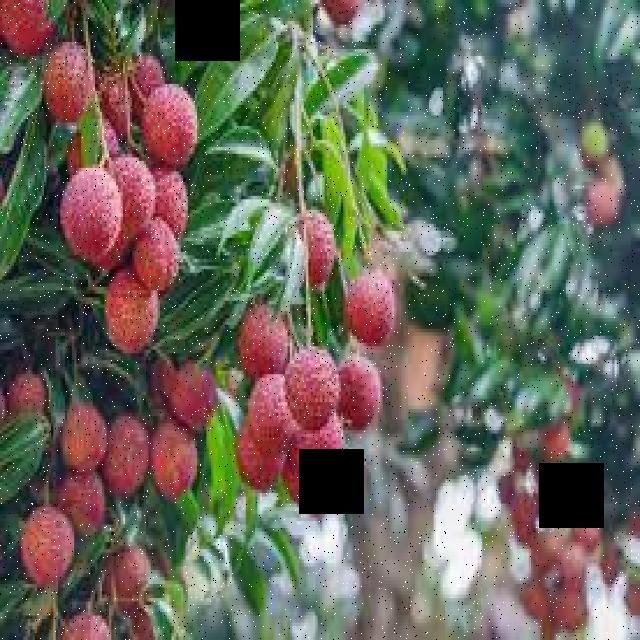lychee: (52, 55, 193, 346)
